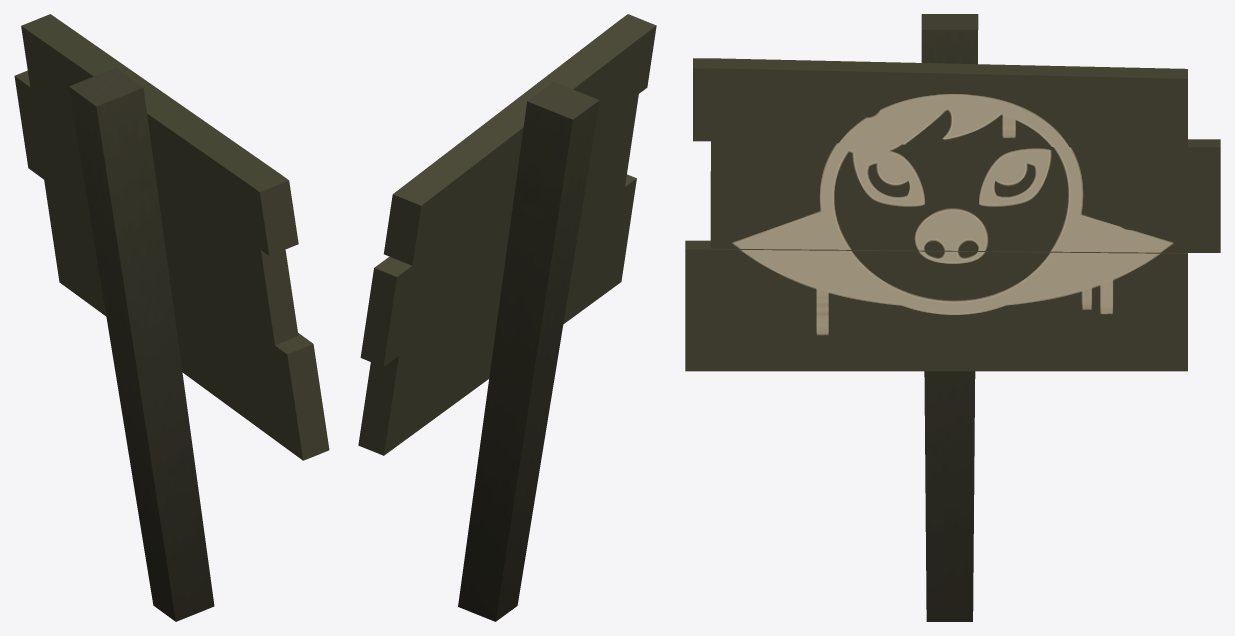
Rendered from Environment_Checkpoint_sign.fbx.
The picture shows the model from 3 angles, left to right: view 1: azimuth 30°, elevation 25°; view 2: azimuth 150°, elevation 25°; view 3: azimuth 270°, elevation 25°; orthographic projection. The views are drawn at different scales.
Visible parts, largest first — view 1: pCylinder10; view 2: pCylinder10; view 3: pCylinder10.
Boxes of the visible parts, x1,y1,x2,y2 form: pCylinder10: (14, 14, 329, 621); pCylinder10: (358, 14, 656, 621); pCylinder10: (685, 14, 1220, 621).
Bounding box in the file's own units: 1.14 × 4.93 × 4.26.
